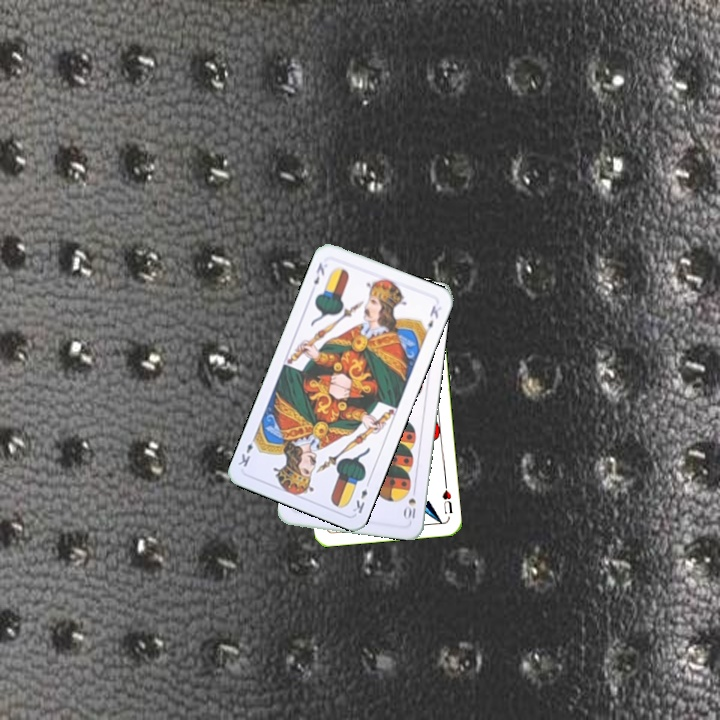EK: (349, 476, 373, 516), (310, 258, 327, 287)
HU: (438, 479, 455, 516)
S10: (401, 484, 418, 524)
